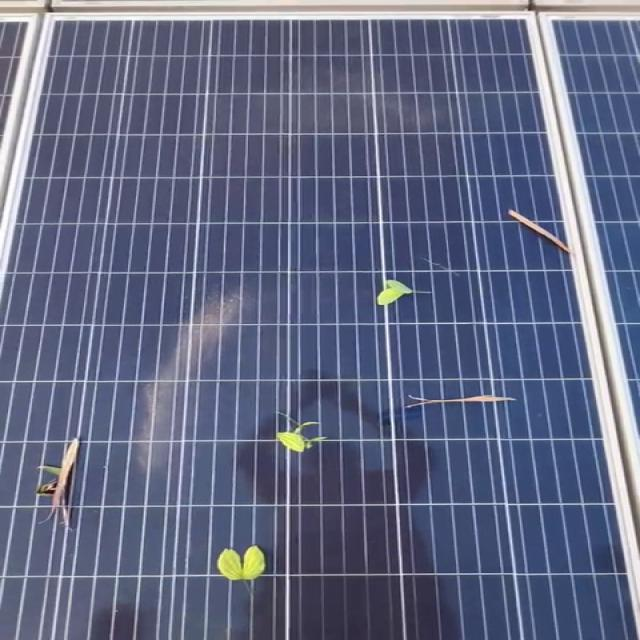dust_partical: (142, 39, 529, 150), (115, 270, 257, 491)
old_leaf: (31, 424, 98, 531), (489, 199, 582, 264), (268, 398, 345, 461), (197, 536, 283, 590), (394, 388, 546, 415), (369, 272, 445, 316)
